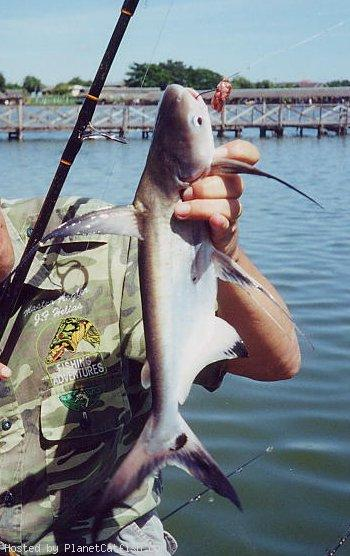fish: (34, 82, 323, 543)
